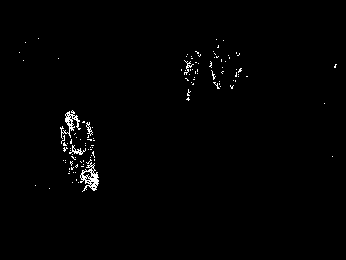person: (58, 110, 100, 192), (181, 49, 204, 101)
